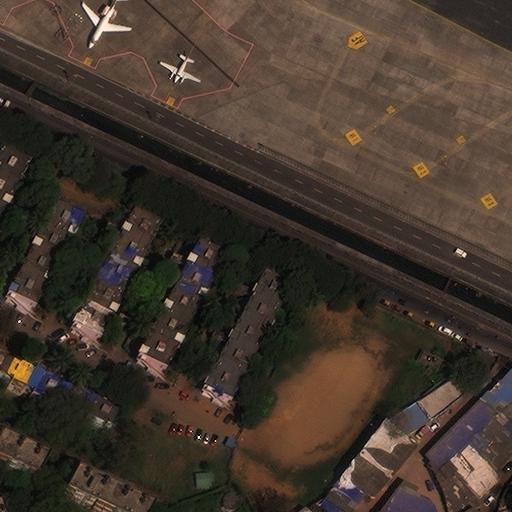Medium Civil Transport: (81, 0, 130, 48), (160, 55, 199, 83)
